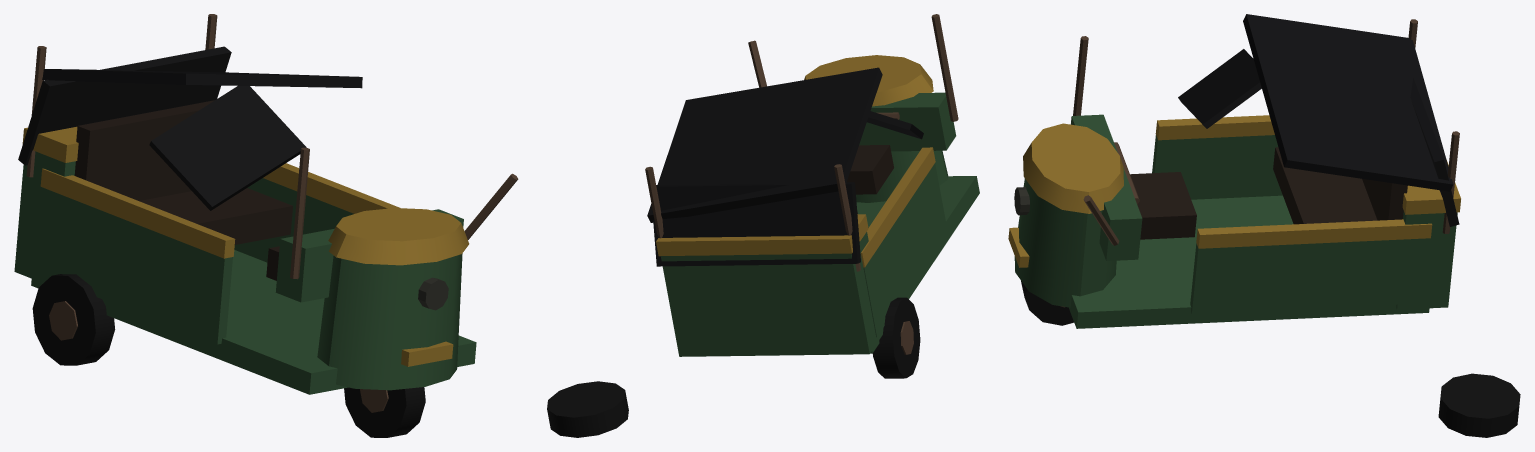
Rendered from rickshaw_wrecked.glb.
3 views of the same model, side by side, from view 1: azimuth 30°, elevation 25°; view 2: azimuth 150°, elevation 25°; view 3: azimuth 270°, elevation 25° (orthographic). The views are drawn at different scales.
Visible parts, largest first — view 1: Rickshaw_Wrecked; view 2: Rickshaw_Wrecked; view 3: Rickshaw_Wrecked.
Part boxes in pixels (box(x1,y1,x2,y2)): Rickshaw_Wrecked: box(14, 14, 518, 437); Rickshaw_Wrecked: box(547, 14, 979, 437); Rickshaw_Wrecked: box(1008, 14, 1520, 437).
Size of the model in its own units: 2.04 by 2.16 by 3.12.
